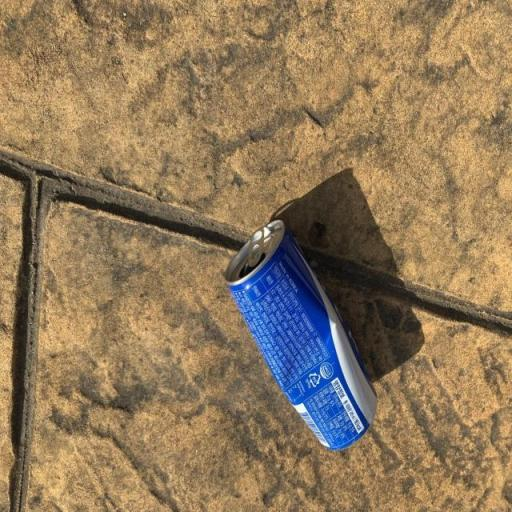metal: (210, 182, 384, 496)
